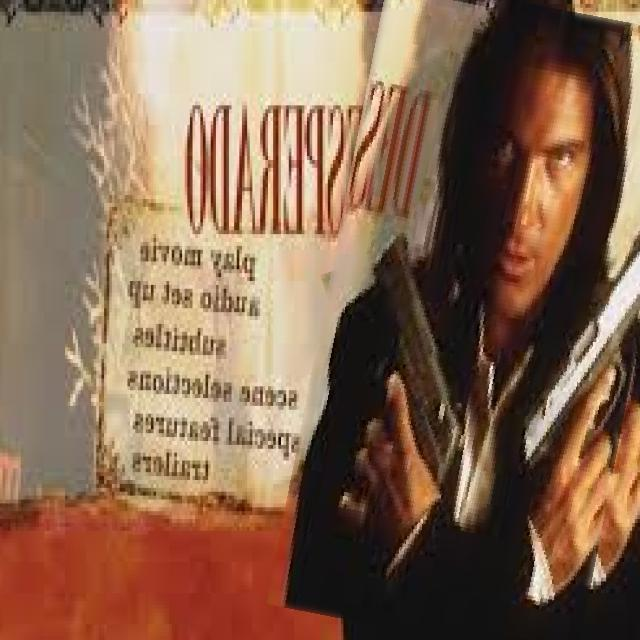Gun_Holder: (484, 253, 640, 521), (332, 246, 464, 536)
Person: (307, 4, 640, 639)
